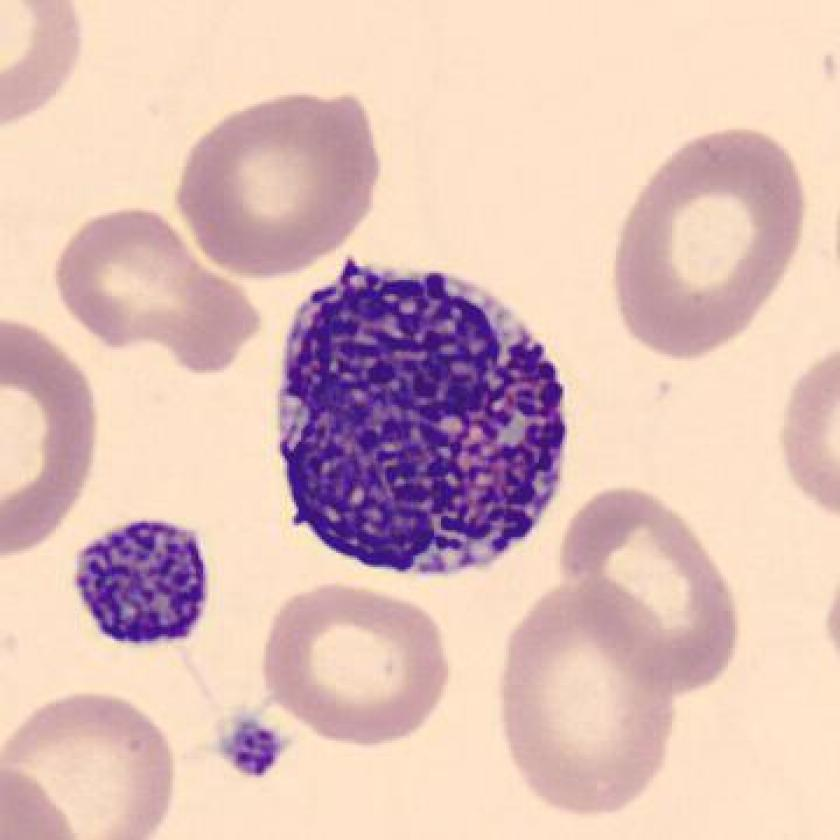basophil: (256, 246, 578, 591)
